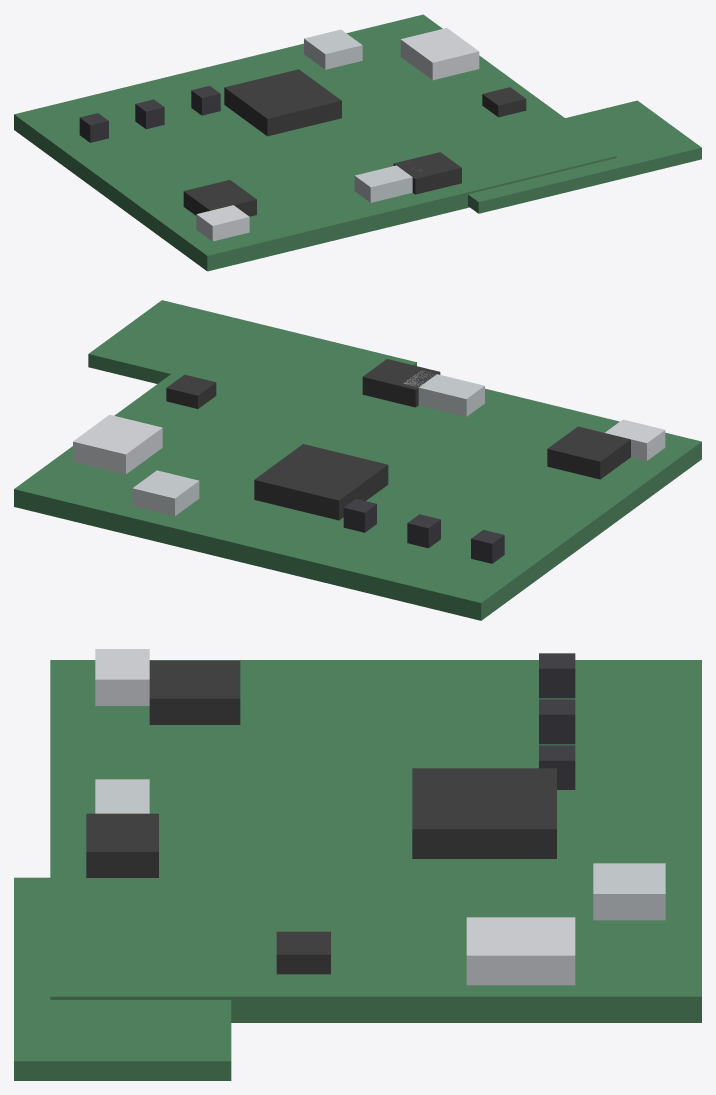
Rendered from mainboard.gltf.
3 views of the same model, one above another, from view 1: azimuth 30°, elevation 25°; view 2: azimuth 150°, elevation 25°; view 3: azimuth 270°, elevation 25° (orthographic). The views are drawn at different scales.
Visible parts, largest first — view 1: mainboard; view 2: mainboard; view 3: mainboard.
Boxes of the visible parts, x1,y1,x2,y2 form: mainboard: [14, 14, 701, 271]; mainboard: [14, 300, 701, 620]; mainboard: [14, 649, 701, 1080].
Size of the model in its own units: 0.26 by 0.017 by 0.19.
